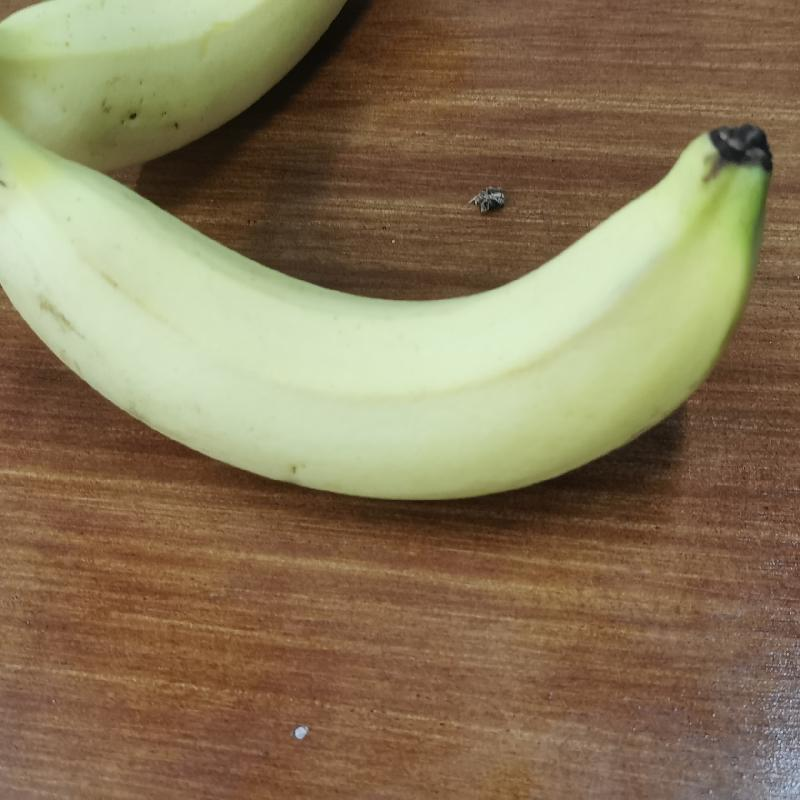bananas: (5, 85, 772, 504)
